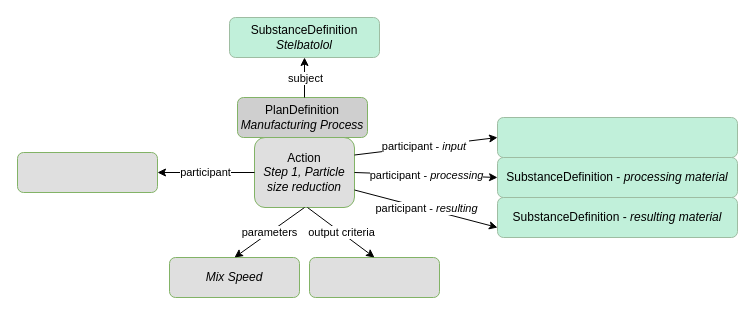
Image size: 755x315. Some labels were removed from this diagram. Here are the shapes that lost their labels. From the top down, the centre of each, then its label:
At point (617, 137): "SubstanceDefinition - starting".
At point (87, 172): "DeviceDefinition Rotating Impeller".
At point (374, 277): "Particle size".
